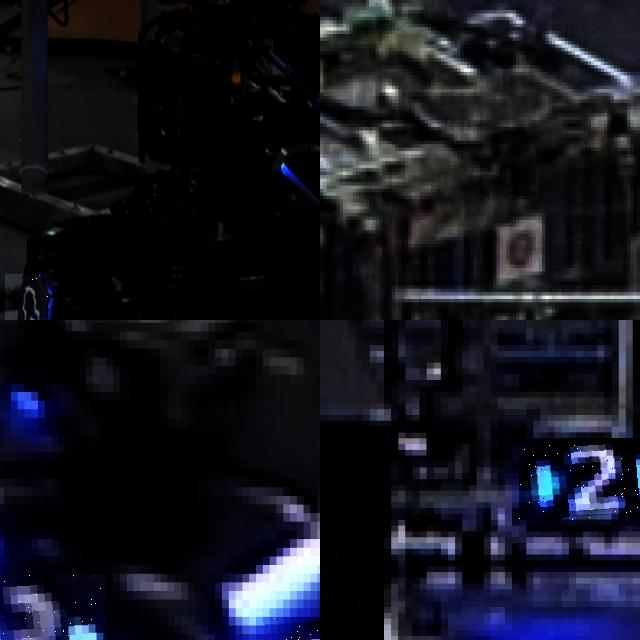B2: (519, 438, 640, 519)
B3: (0, 573, 106, 640)
Bs: (5, 274, 52, 320)
